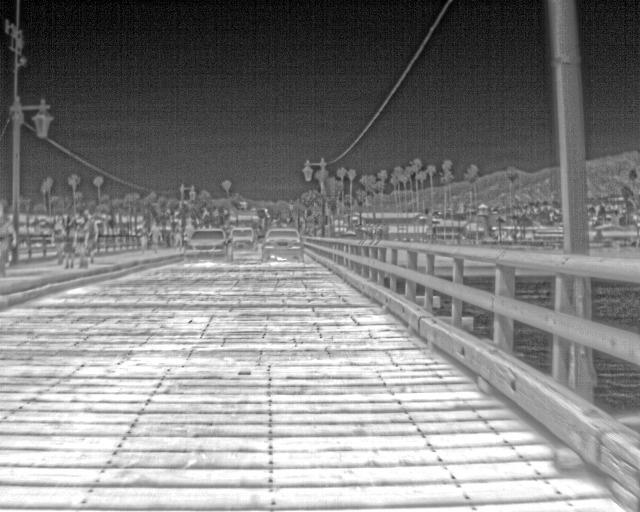bicycle: (184, 228, 231, 263), (260, 228, 306, 262), (228, 226, 256, 250)
empty: (75, 208, 97, 268), (0, 204, 19, 273), (60, 233, 77, 270), (147, 222, 164, 253), (172, 219, 185, 252), (136, 224, 149, 253)
